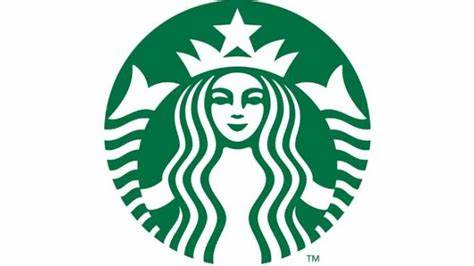starbucks Originale: (92, 1, 386, 266)
